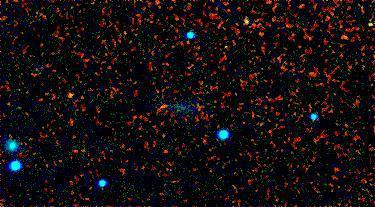star: (58, 80, 88, 110)
